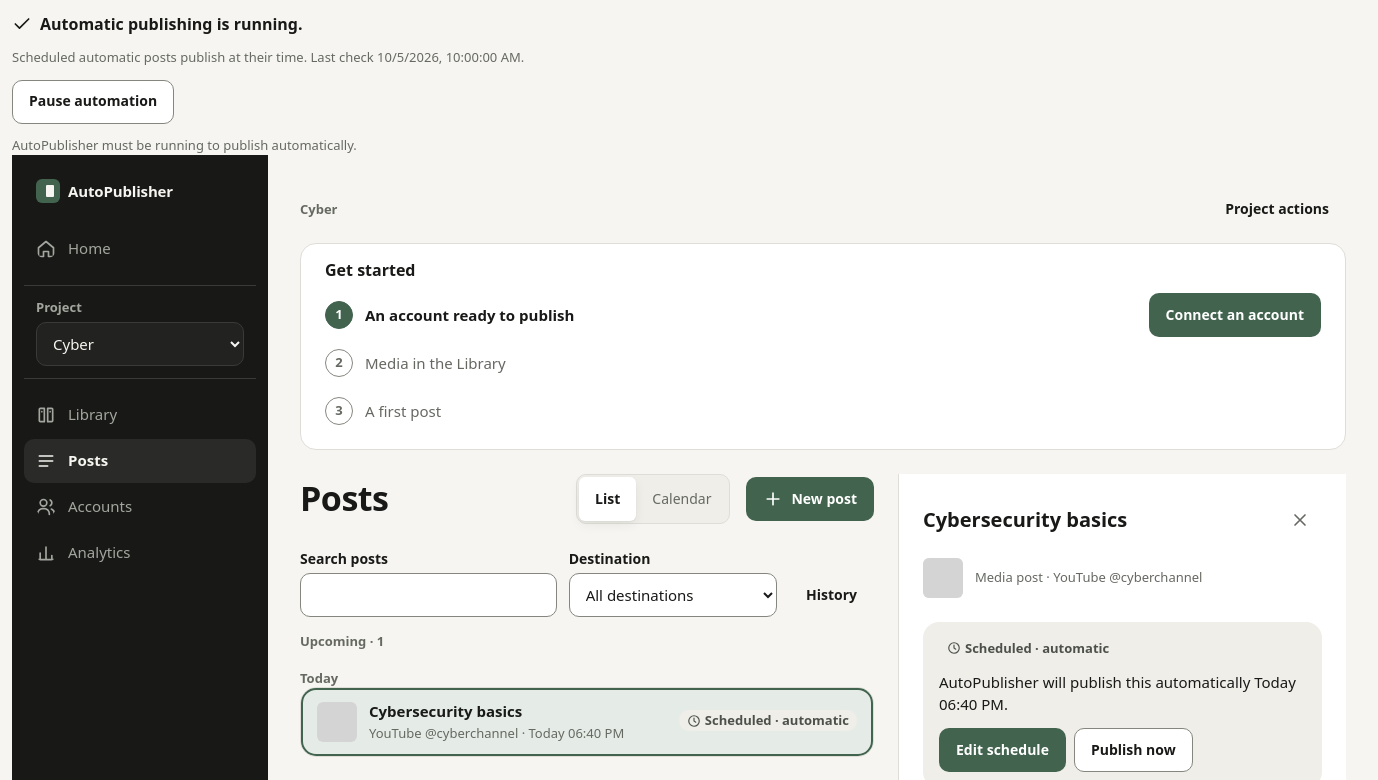
Test: browser storage › is never written while automation runs, pauses or reports failures
This screenshot has width=1378, height=780.
Click the button "Pause automation" at (93, 102), box [12,80,174,124]
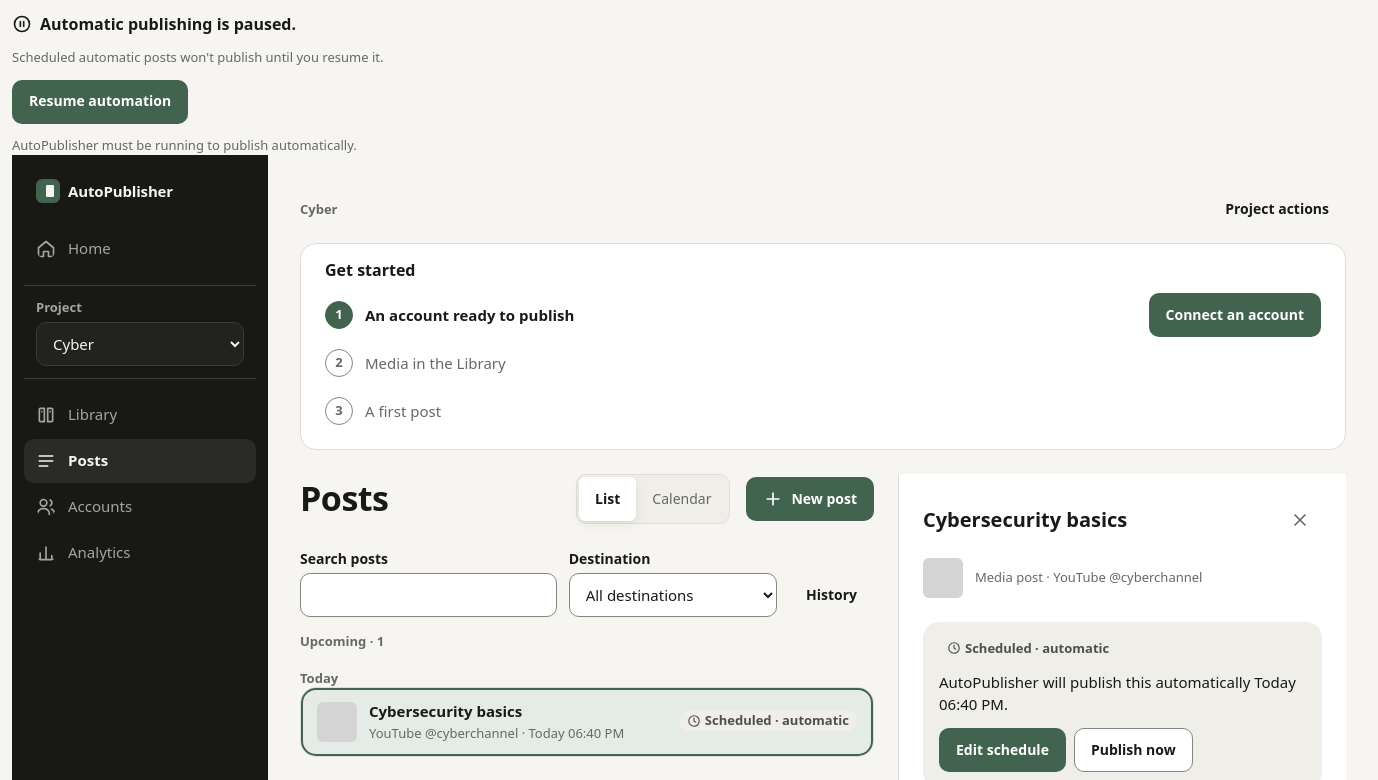
Click the button "Resume automation" at (100, 102), box [12,80,188,124]
Wait 17000 ms
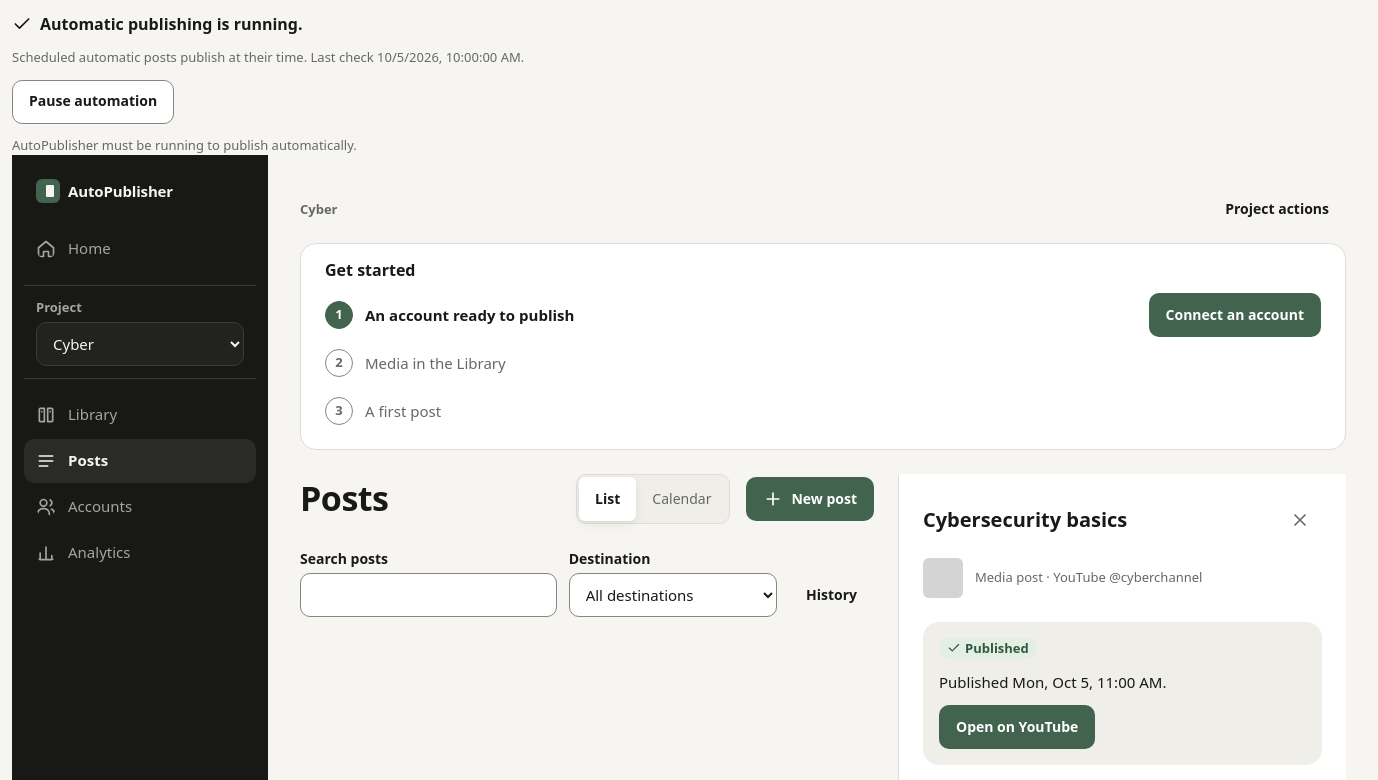
Now the link "Open on YouTube" is shown, box [939,705,1095,749]
